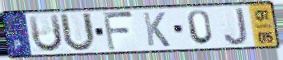0: (186, 9, 214, 47)
F: (101, 11, 136, 53)
J: (223, 7, 250, 47)
K: (141, 12, 172, 48)
U: (58, 12, 98, 54), (26, 13, 65, 54)
